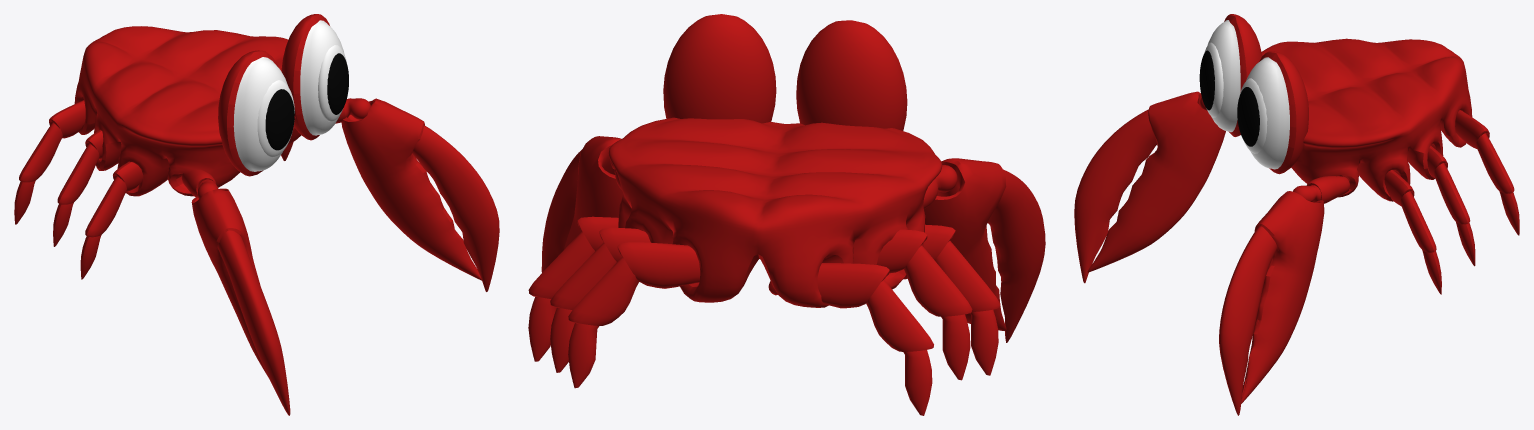
3 renders of one model, left to right at view 1: azimuth 30°, elevation 25°; view 2: azimuth 150°, elevation 25°; view 3: azimuth 270°, elevation 25°, orthographic. The views are drawn at different scales.
Visible parts, largest first — view 1: crab_head_decor; view 2: crab_head_decor; view 3: crab_head_decor.
Part boxes in pixels (bbox=[...]): crab_head_decor: bbox=[14, 14, 499, 415]; crab_head_decor: bbox=[528, 14, 1045, 415]; crab_head_decor: bbox=[1074, 14, 1519, 415].
Bounding box in the file's own units: 29.7 × 30.3 × 21.74.
